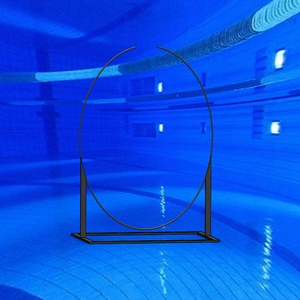circle: (71, 44, 221, 245)
